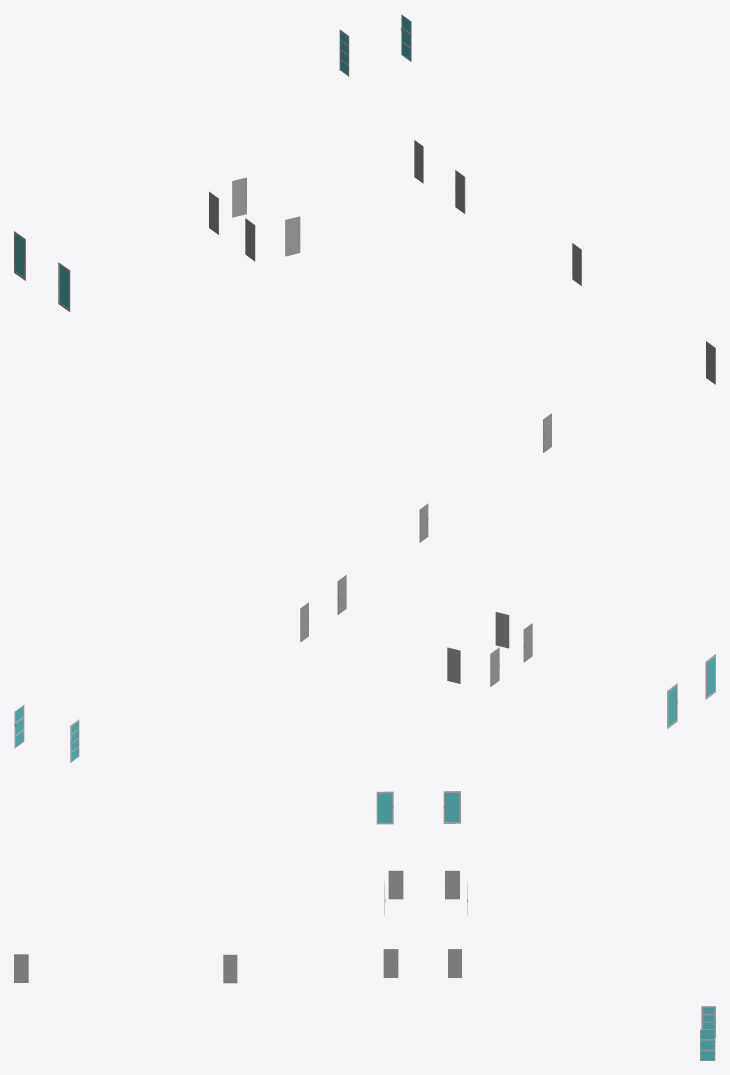
The model's file is rb0_Door.fbx.
3 views of the same model, one above another, from view 1: azimuth 30°, elevation 25°; view 2: azimuth 150°, elevation 25°; view 3: azimuth 270°, elevation 25° (orthographic). The views are drawn at different scales.
Parts seen in each view (by area): view 1: Podlaha001.2588; view 2: no part large enough to name; view 3: Podlaha001.903, Podlaha001.909, Podlaha001.2681, Podlaha001.2592, Podlaha001.2398, Podlaha001.2598, Podlaha001.2404.
Boxes of the visible parts, <box> form: Podlaha001.2588: <box>285,216,300,256</box>; Podlaha001.903: <box>376,791,393,824</box>; Podlaha001.909: <box>443,791,460,823</box>; Podlaha001.2681: <box>700,1029,715,1060</box>; Podlaha001.2592: <box>388,870,403,899</box>; Podlaha001.2398: <box>383,949,398,977</box>; Podlaha001.2598: <box>445,870,459,899</box>; Podlaha001.2404: <box>223,954,237,983</box>.
Size of the model in its own units: 3123 by 423 by 4417.
